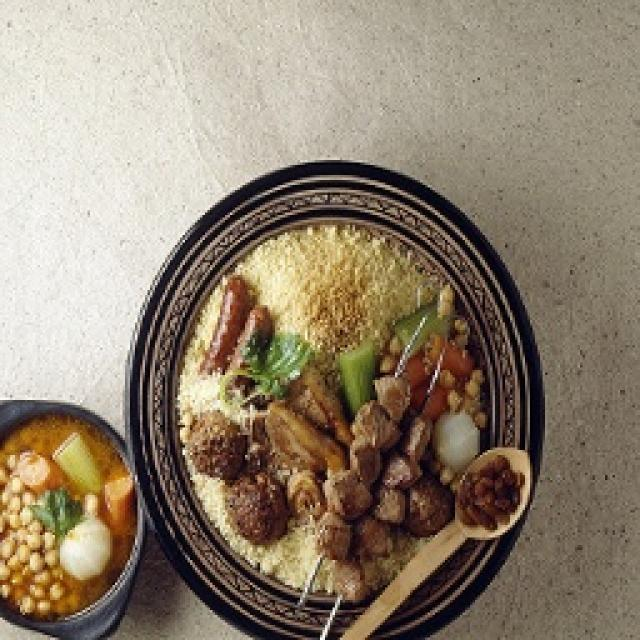Couscous: (178, 222, 489, 637)
